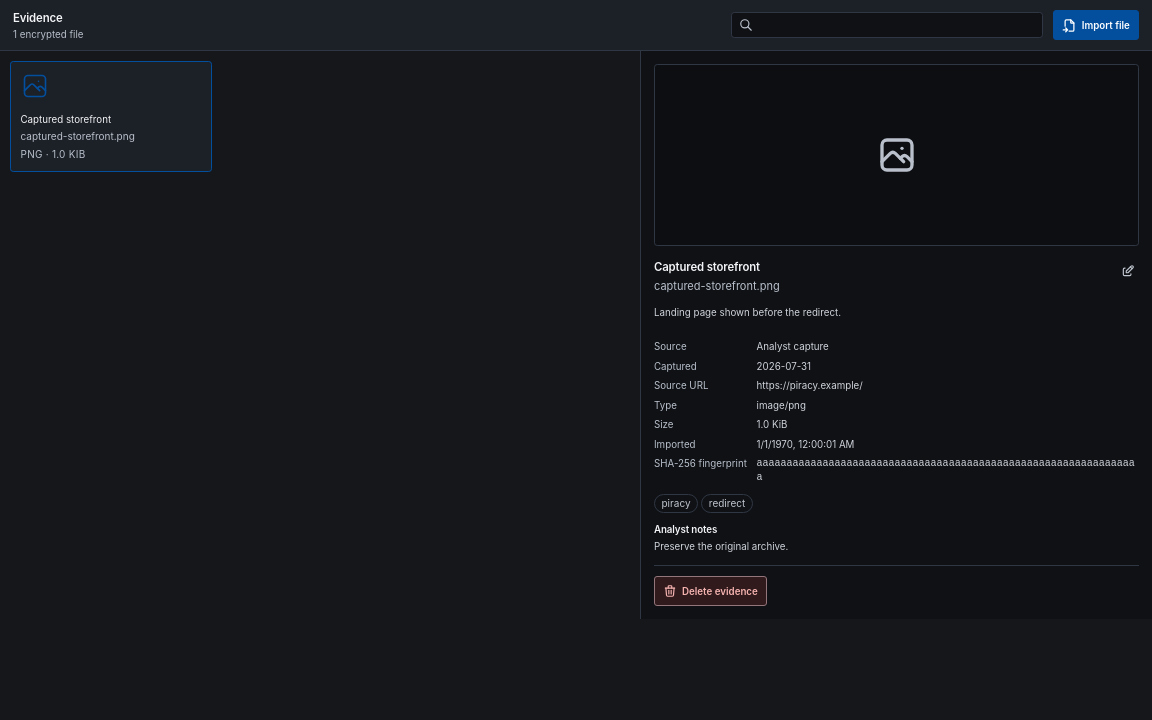
Test: lists encrypted project evidence and imports general files from the library toolbar
Expected: the button "Captured storefront captured-storefront.png png · 1.0 KiB" is shown, [10, 61, 212, 172]
Click the button with aria-label "Import evidence file": [1096, 25] box [1053, 10, 1139, 40]
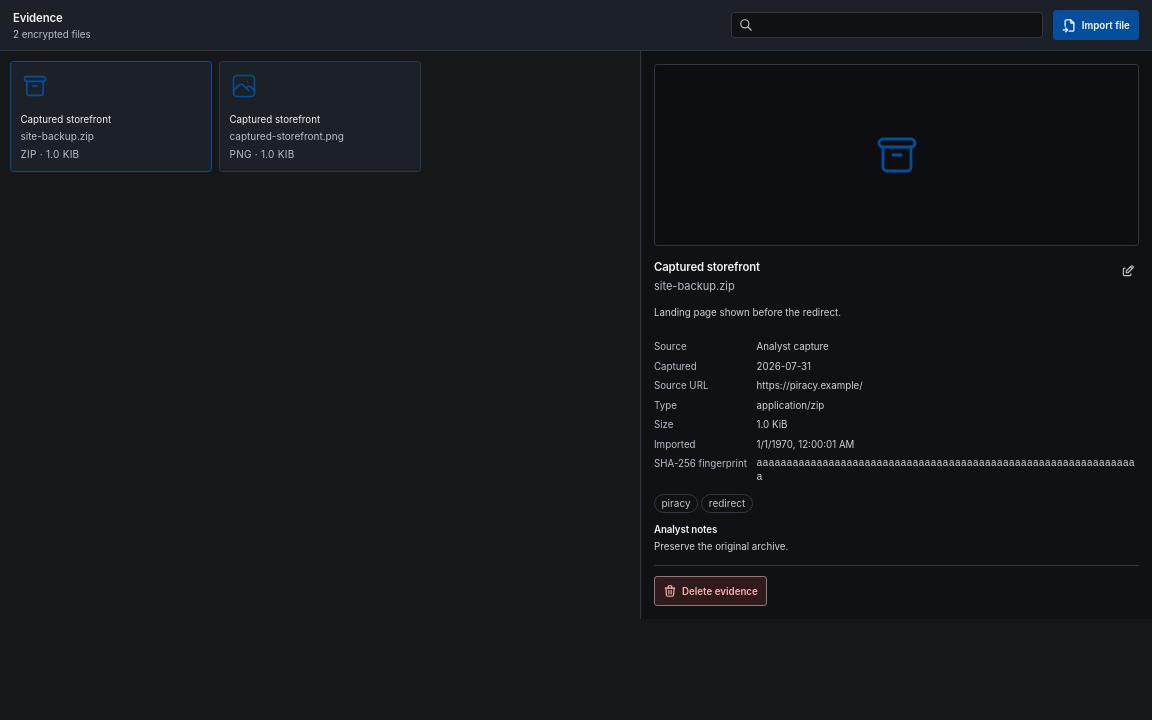
Now the button "Captured storefront site-backup.zip zip · 1.0 KiB" is shown, box [10, 61, 212, 172]
